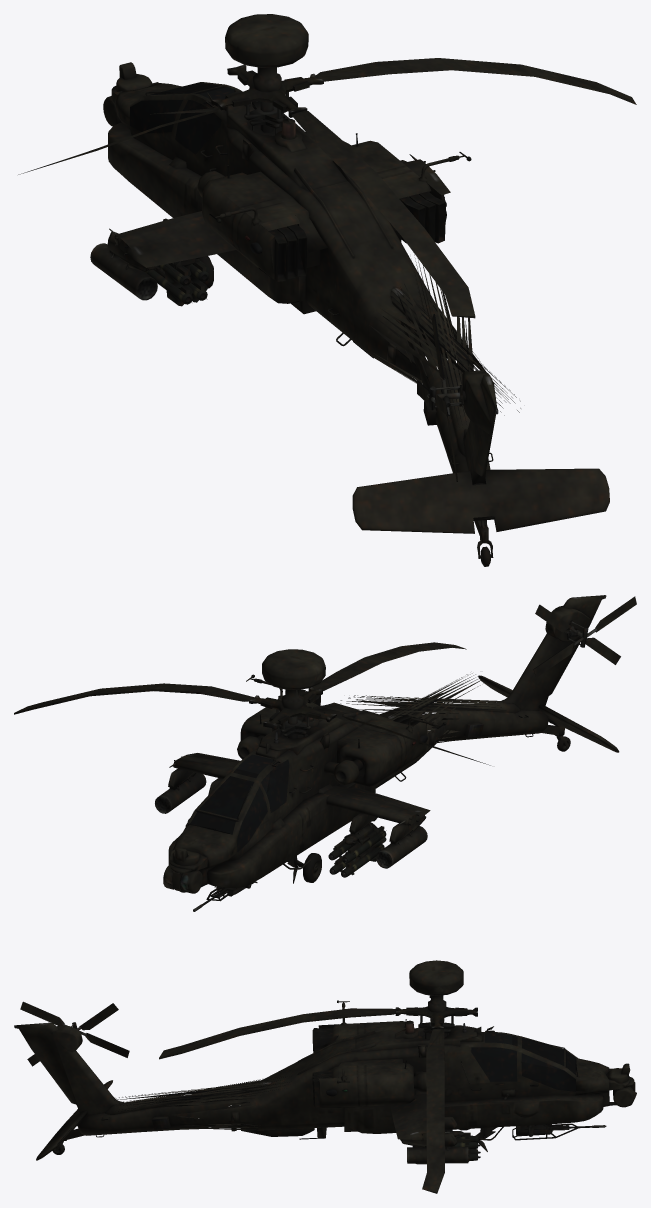
The model's file is heli-wreck.glb.
3 views of the same model, one above another, from view 1: azimuth 30°, elevation 25°; view 2: azimuth 150°, elevation 25°; view 3: azimuth 270°, elevation 25° (orthographic). The views are drawn at different scales.
Parts seen in each view (by area): view 1: hull, rotor; view 2: hull, rotor; view 3: hull, rotor.
Boxes of the visible parts, x1,y1,x2,y2 form: hull: (90, 14, 609, 566); rotor: (18, 58, 636, 318); hull: (155, 595, 636, 911); rotor: (14, 642, 490, 765); hull: (14, 960, 636, 1164); rotor: (159, 995, 477, 1193).
Size of the model in its own units: 11.89 by 5.71 by 15.54.
Materials: 1 (1 with a texture image).
